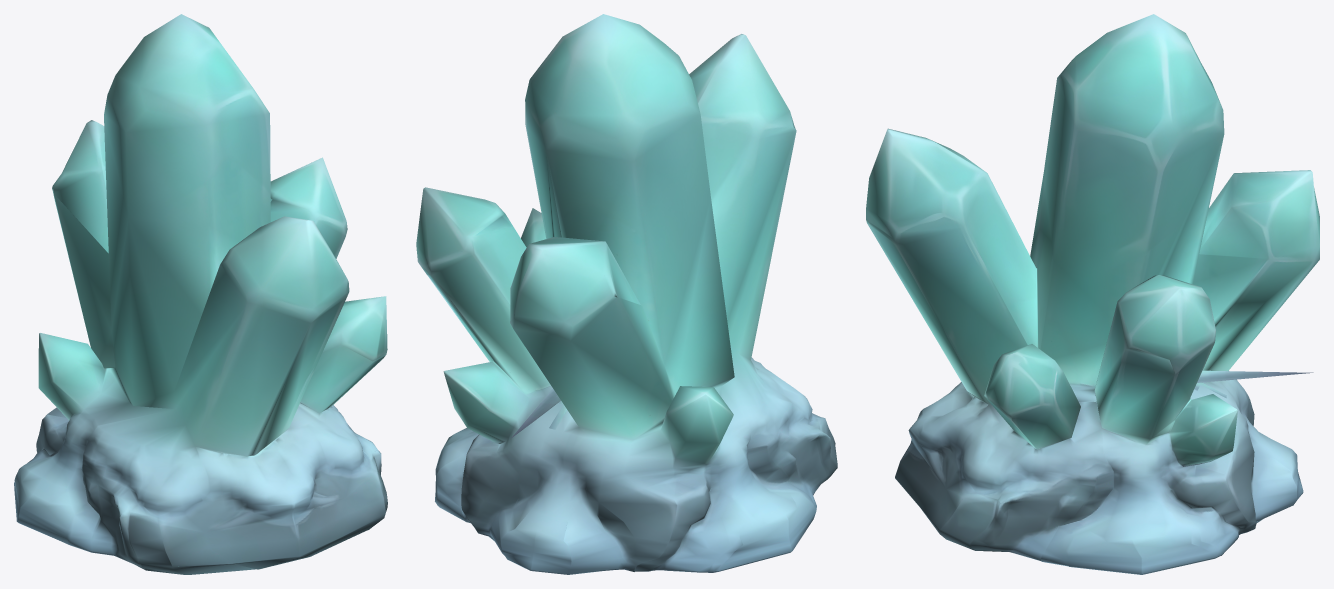
The model's file is model_url.glb.
3 views of the same model, side by side, from view 1: azimuth 30°, elevation 25°; view 2: azimuth 150°, elevation 25°; view 3: azimuth 270°, elevation 25° (orthographic). The views are drawn at different scales.
Visible parts, largest first — view 1: tripo_node_5bf08051-a93f-4a1b-8d21-773fecc8cad0; view 2: tripo_node_5bf08051-a93f-4a1b-8d21-773fecc8cad0; view 3: tripo_node_5bf08051-a93f-4a1b-8d21-773fecc8cad0.
Boxes of the visible parts, x1=… form: tripo_node_5bf08051-a93f-4a1b-8d21-773fecc8cad0: x1=14, y1=14, x2=387, y2=574; tripo_node_5bf08051-a93f-4a1b-8d21-773fecc8cad0: x1=416, y1=14, x2=837, y2=574; tripo_node_5bf08051-a93f-4a1b-8d21-773fecc8cad0: x1=866, y1=14, x2=1319, y2=574.
Bounding box in the file's own units: 0.7476 × 1 × 0.8552.
1 material, 1 textured.
